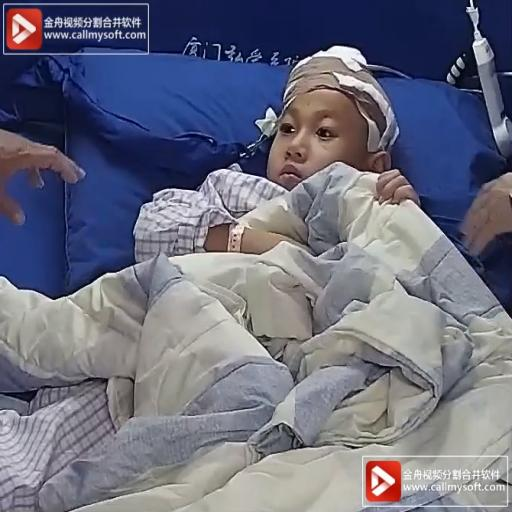Seizure: (264, 48, 393, 208)
